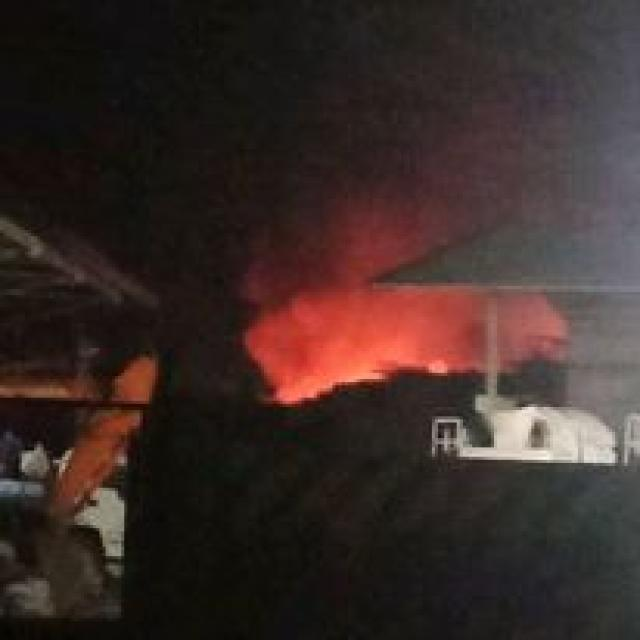Smoke: (258, 303, 532, 404)
